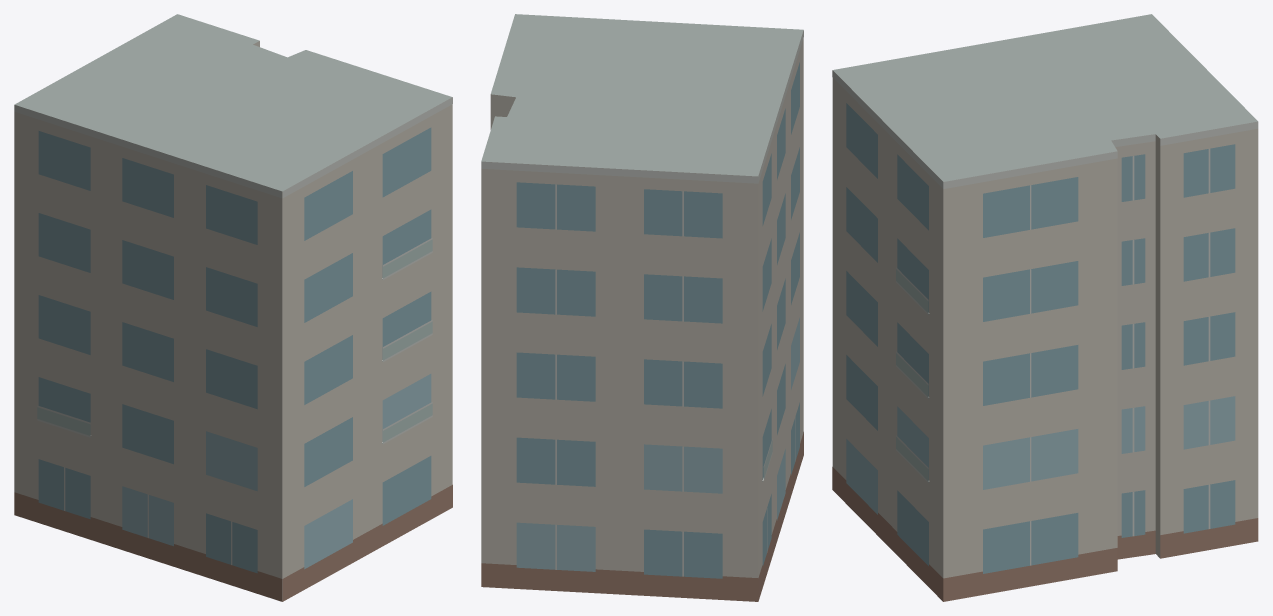
File: survey-upis-32722622.glb
The picture shows the model from 3 angles, left to right: view 1: azimuth 30°, elevation 25°; view 2: azimuth 150°, elevation 25°; view 3: azimuth 270°, elevation 25°; orthographic projection. The views are drawn at different scales.
Visible parts, largest first — view 1: survey-upis-32722622.tmp; view 2: survey-upis-32722622.tmp; view 3: survey-upis-32722622.tmp.
Part boxes in pixels (bbox=[...]): survey-upis-32722622.tmp: bbox=[14, 14, 452, 601]; survey-upis-32722622.tmp: bbox=[481, 14, 803, 601]; survey-upis-32722622.tmp: bbox=[832, 14, 1258, 601].
Size of the model in its own units: 12.28 by 14.3 by 13.15.
